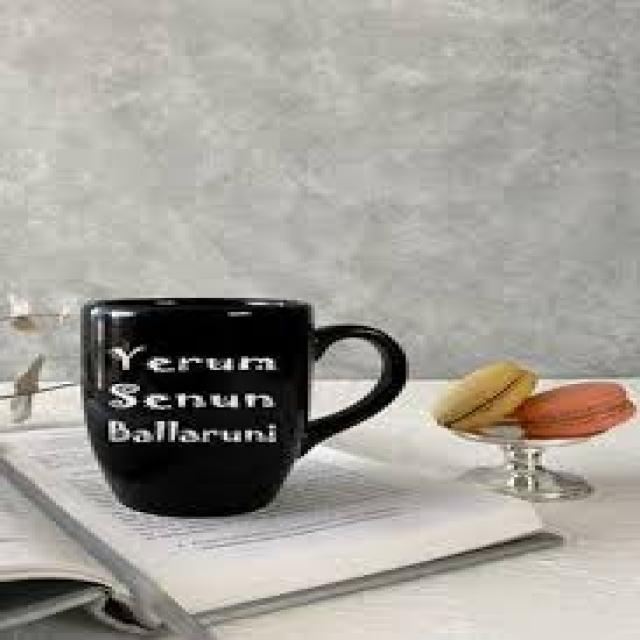taza: (79, 297, 409, 523)
